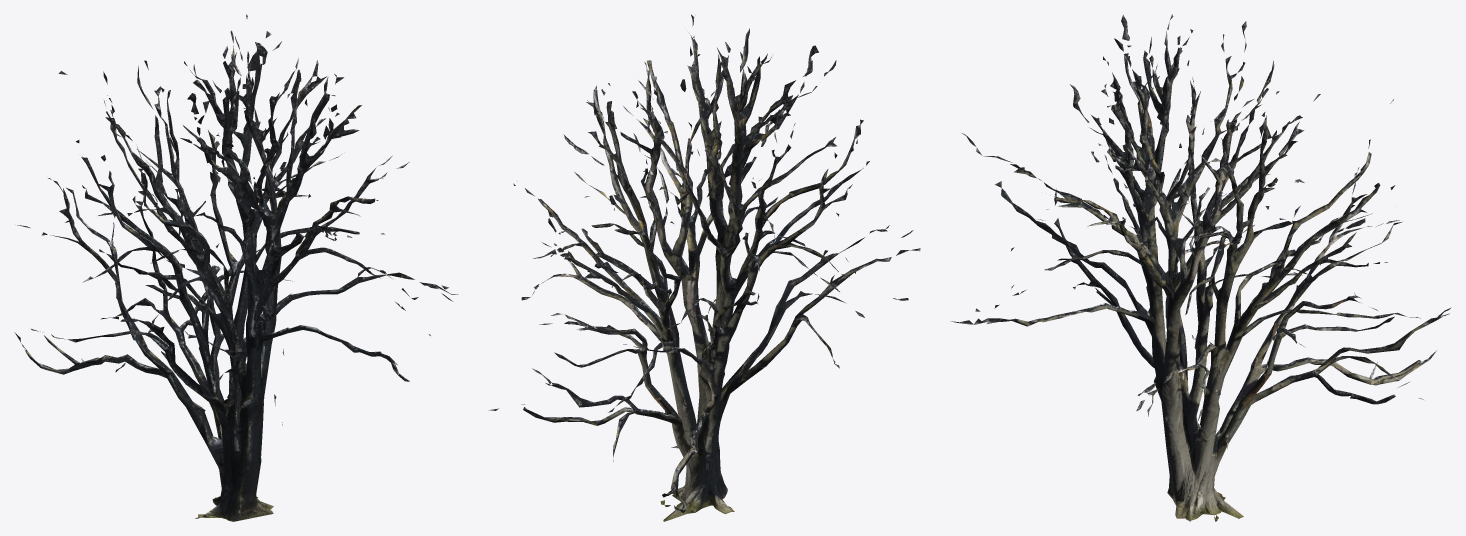
File: tree_snag_tall.glb
3 views of the same model, side by side, from view 1: azimuth 30°, elevation 25°; view 2: azimuth 150°, elevation 25°; view 3: azimuth 270°, elevation 25° (orthographic). The views are drawn at different scales.
Parts seen in each view (by area): view 1: tree_snag_tall; view 2: tree_snag_tall; view 3: tree_snag_tall.
Part boxes in pixels (box(x1,y1,x2,y2)): tree_snag_tall: box(14, 14, 458, 521); tree_snag_tall: box(488, 14, 920, 521); tree_snag_tall: box(951, 14, 1451, 521).
Bounding box in the file's own units: 2.3 × 2.79 × 2.72.
Materials: 1 (1 with a texture image).
